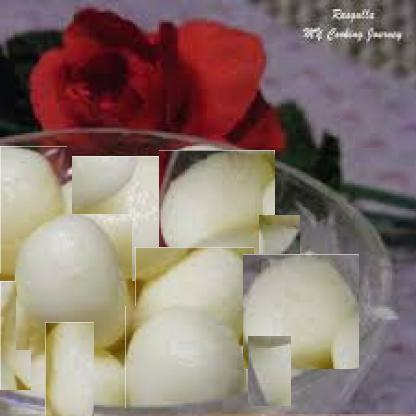rasgulla: (16, 214, 132, 350), (70, 157, 193, 280), (244, 254, 359, 370), (162, 147, 273, 258), (125, 306, 244, 408), (135, 247, 254, 342), (0, 146, 67, 273), (31, 336, 107, 411), (0, 281, 31, 390), (241, 342, 297, 400), (258, 216, 302, 260)
